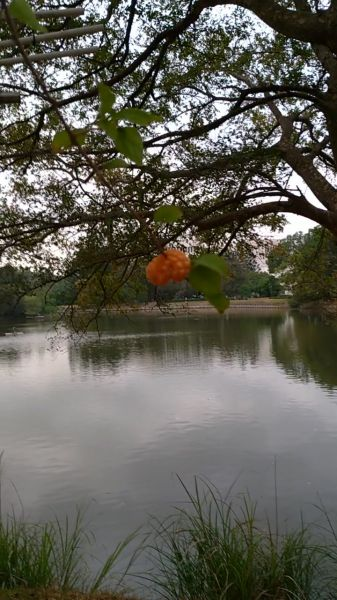eggs: (141, 241, 197, 293)
